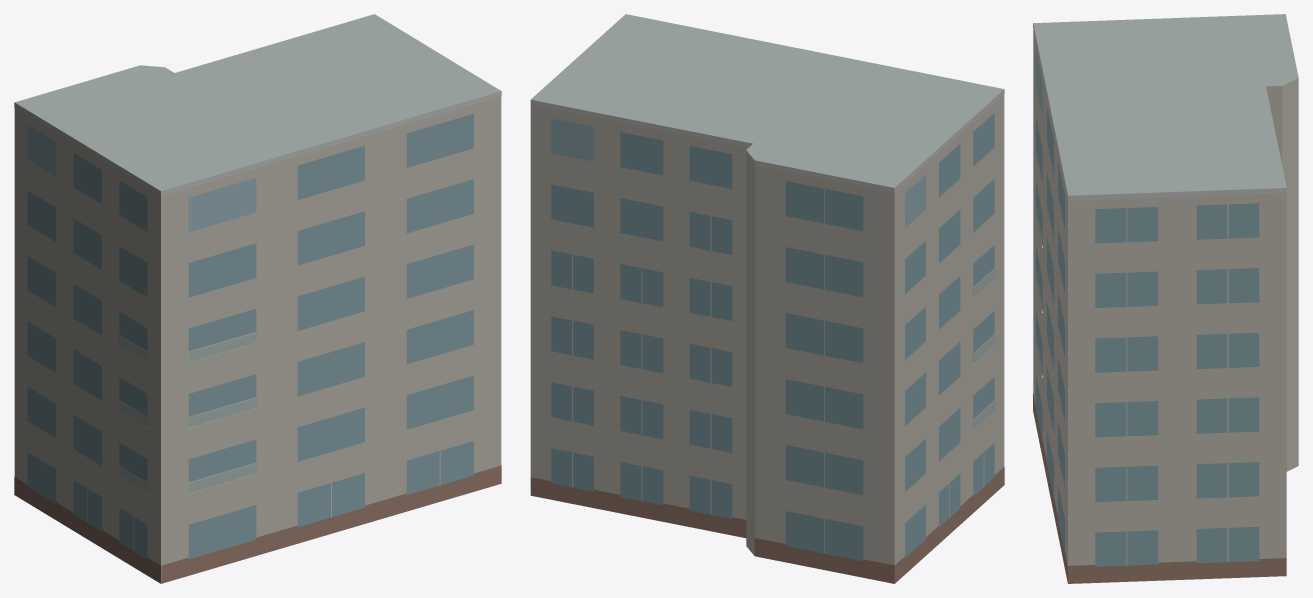
Rendered from survey-upis-32755786.glb.
3 renders of one model, left to right at view 1: azimuth 30°, elevation 25°; view 2: azimuth 150°, elevation 25°; view 3: azimuth 270°, elevation 25°, orthographic. The views are drawn at different scales.
Visible parts, largest first — view 1: survey-upis-32755786.tmp; view 2: survey-upis-32755786.tmp; view 3: survey-upis-32755786.tmp.
Boxes of the visible parts, left/top/right/bottom form: survey-upis-32755786.tmp: left=14, top=14, right=501, bottom=583; survey-upis-32755786.tmp: left=530, top=14, right=1004, bottom=583; survey-upis-32755786.tmp: left=1033, top=14, right=1298, bottom=583.
Bounding box in the file's own units: 18.39 × 18.3 × 11.36.
